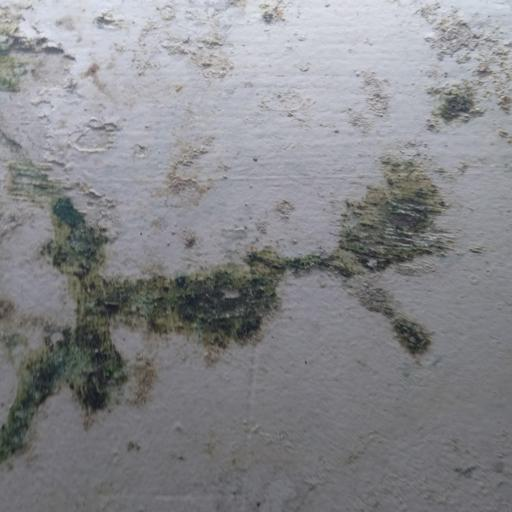algae: (0, 128, 469, 461)
